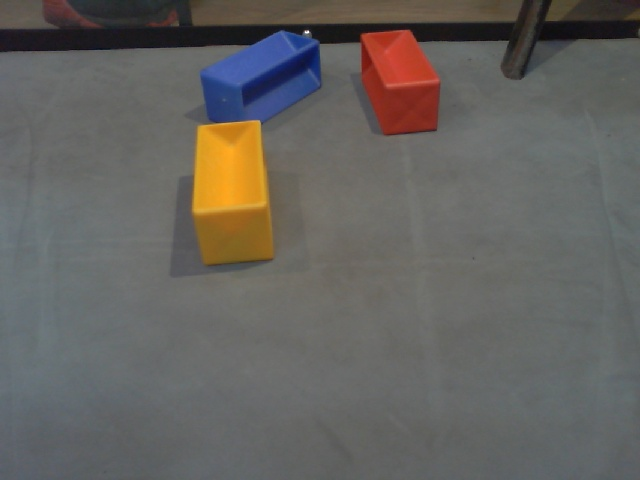BlueSample: (198, 28, 322, 125)
RedSample: (356, 26, 442, 139)
YellowSample: (192, 118, 278, 270)
